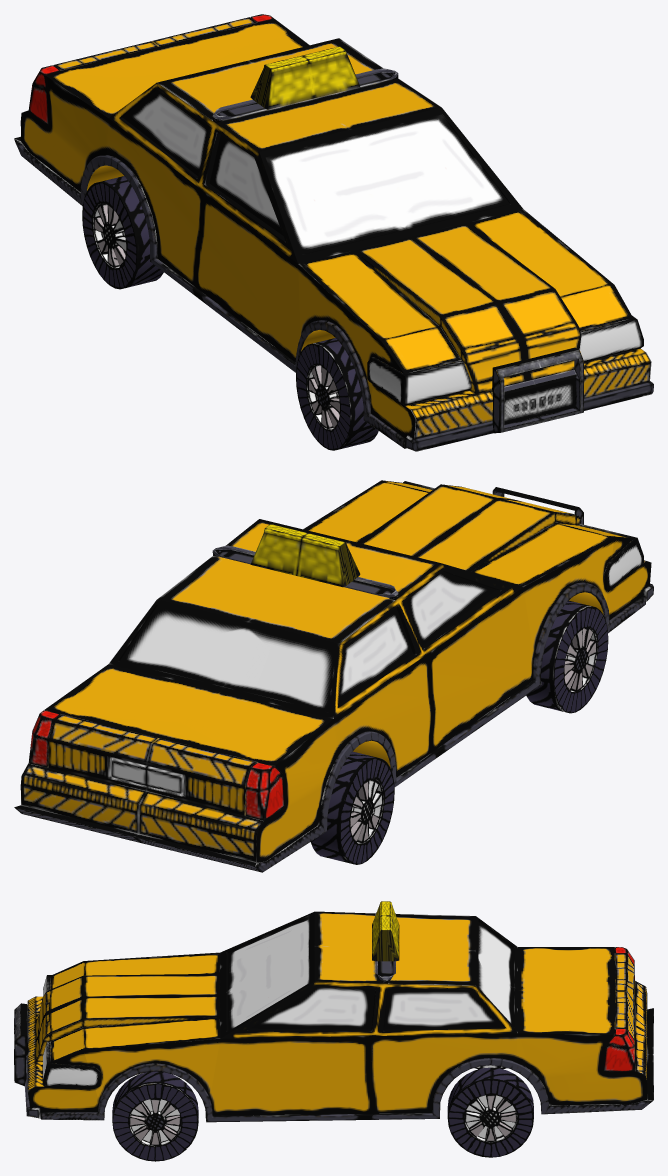
File: taxi.fbx
3 renders of one model, top to bottom at view 1: azimuth 30°, elevation 25°; view 2: azimuth 150°, elevation 25°; view 3: azimuth 270°, elevation 25°, orthographic. The views are drawn at different scales.
Parts seen in each view (by area): view 1: Body, BackwardLeftWheel, FrontLeftWheel, FrontLights; view 2: Body, BackwardLeftWheel, FrontLeftWheel, FrontLights; view 3: Body, FrontRightWheel, BackwardRightWheel, FrontLights.
Boxes of the visible parts, left/top/right/bottom form: Body: left=14, top=14, right=653, bottom=451; BackwardLeftWheel: left=82, top=176, right=163, bottom=289; FrontLeftWheel: left=296, top=338, right=378, bottom=450; FrontLights: left=367, top=315, right=643, bottom=405; Body: left=14, top=480, right=653, bottom=872; BackwardLeftWheel: left=311, top=751, right=394, bottom=864; FrontLeftWheel: left=526, top=600, right=608, bottom=713; FrontLights: left=403, top=481, right=643, bottom=590; Body: left=14, top=901, right=653, bottom=1122; FrontRightWheel: left=112, top=1071, right=198, bottom=1161; BackwardRightWheel: left=447, top=1067, right=533, bottom=1157; FrontLights: left=43, top=975, right=100, bottom=1087.
Size of the model in its own units: 124 by 115 by 339.
